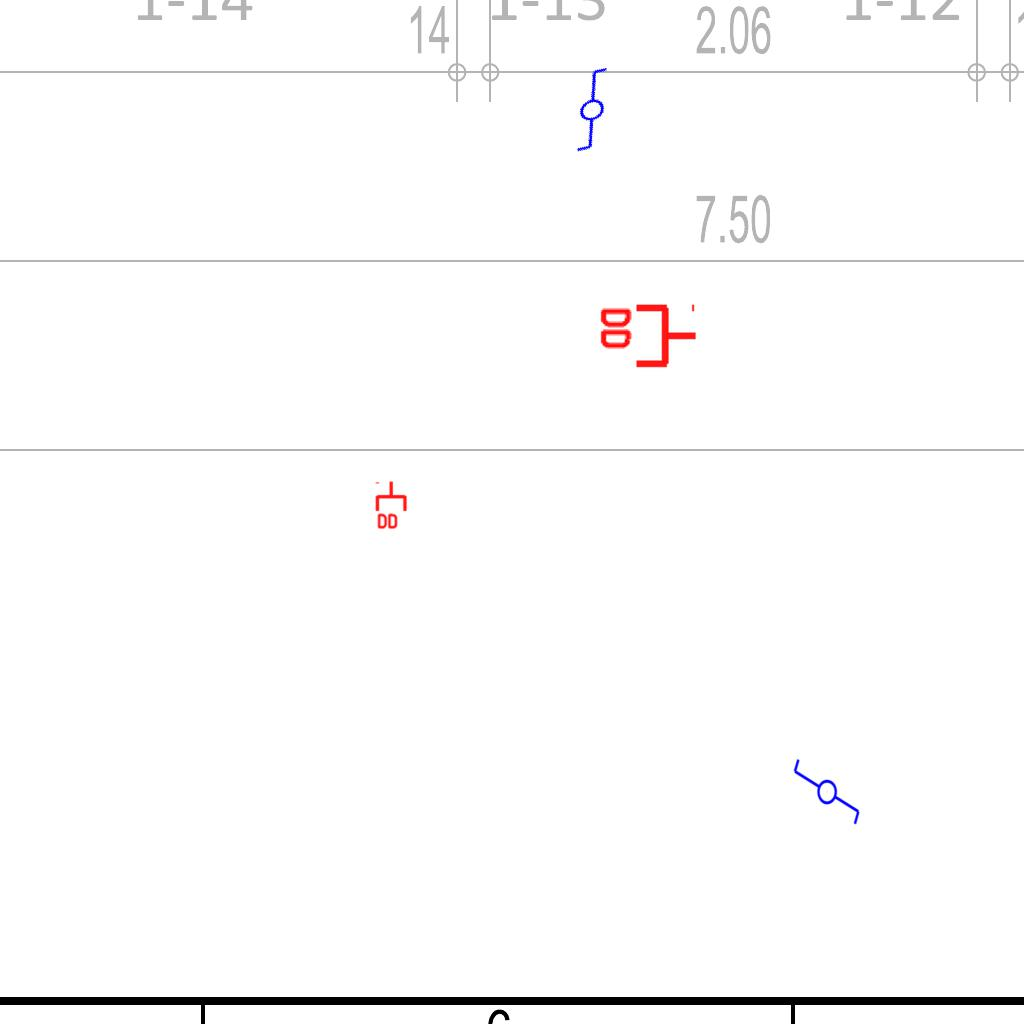Datenanschluss_zweifach: (596, 303, 699, 372), (375, 480, 409, 531)
Wechselschalter: (536, 60, 640, 162), (790, 757, 862, 835)
